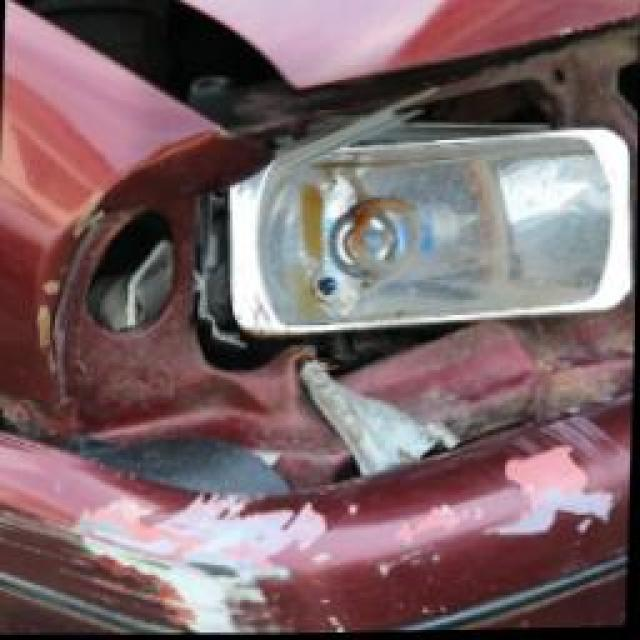Bonnet: (415, 0, 640, 62)
Bumper: (62, 452, 632, 640)
Light: (85, 102, 604, 454)
